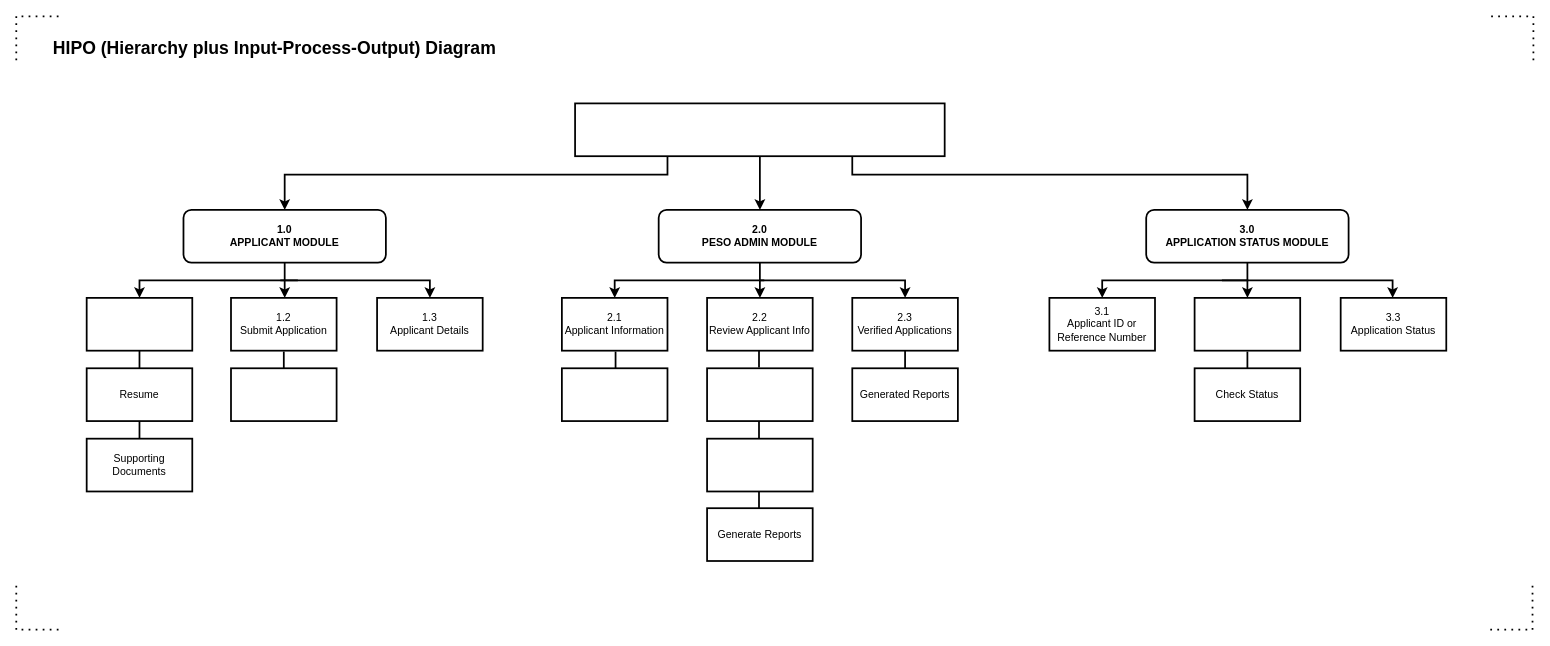
This 1550x646 diagram has some shape labels left out. Here are the shapes that lost their labels. From the top down, the centre of each, then its label:
[759,129]: 0 Web-Based Applicant Information and Employment Assistance Management System
[139,324]: 1.1 Application Form
[1247,324]: 3.2 Retrive Applicant Record
[283,394]: Store Applicant Info
[614,394]: Submitted Documents
[759,394]: Verify Documents
[759,464]: Update Status
